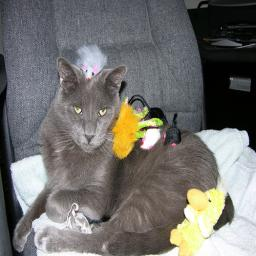catnose: (86, 134, 96, 144)
